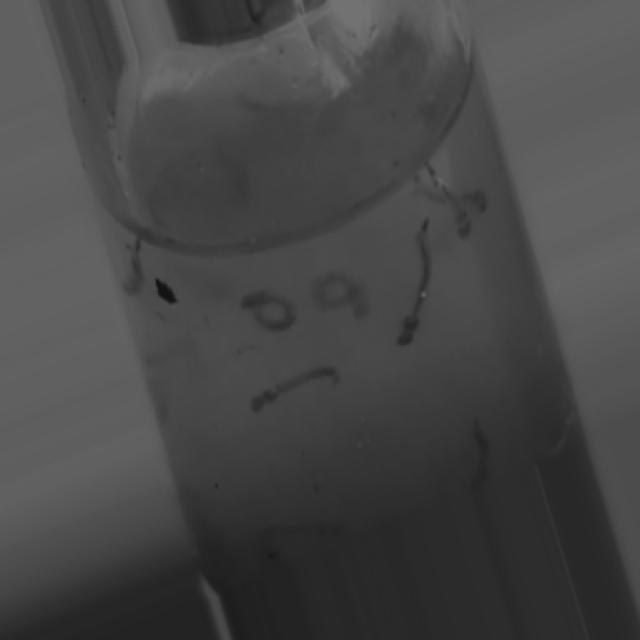larvas: (240, 352, 346, 425), (388, 217, 438, 347), (429, 166, 482, 248), (415, 175, 495, 220), (258, 519, 336, 555), (119, 242, 161, 301), (239, 292, 300, 330), (318, 275, 361, 311), (468, 419, 488, 479)
